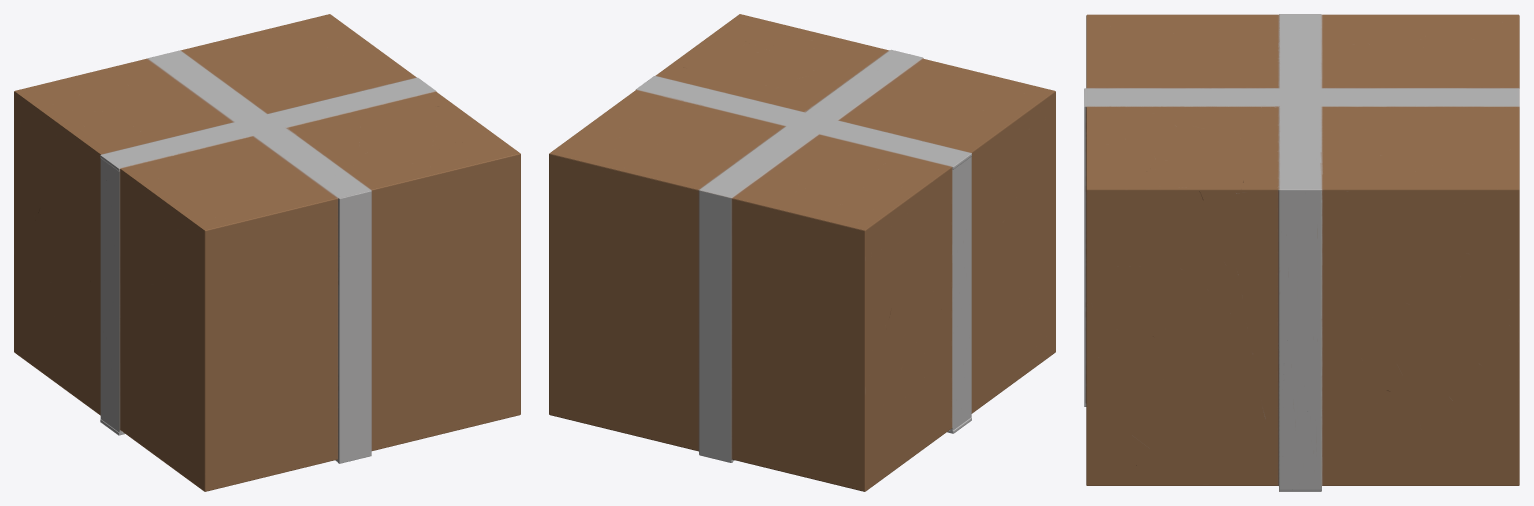
Rendered from paket_2.obj.
The picture shows the model from 3 angles, left to right: view 1: azimuth 30°, elevation 25°; view 2: azimuth 150°, elevation 25°; view 3: azimuth 270°, elevation 25°; orthographic projection. The views are drawn at different scales.
Parts seen in each view (by area): view 1: 272963_23_05_27_00_08_56_0; view 2: 272963_23_05_27_00_08_56_0; view 3: 272963_23_05_27_00_08_56_0.
Boxes of the visible parts, bbox=[...] form: 272963_23_05_27_00_08_56_0: bbox=[14, 14, 520, 491]; 272963_23_05_27_00_08_56_0: bbox=[549, 14, 1055, 491]; 272963_23_05_27_00_08_56_0: bbox=[1084, 14, 1519, 491].
Size of the model in its own units: 3.84 by 3.09 by 4.02.
